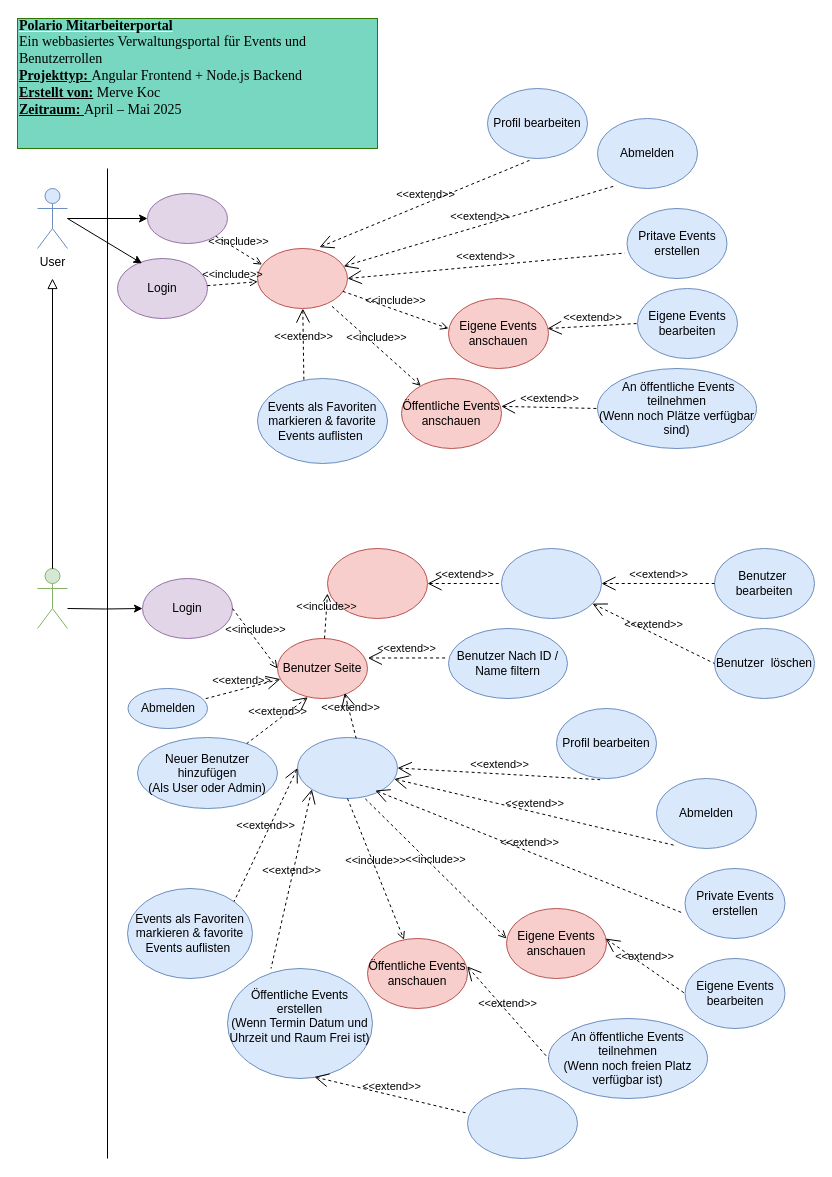
Some shapes in this 832 by 1177 pixel diagram are drawn without their labels. The shapes that lost their labels are listed below. From the top down, each one's box as (x1, y1, x2, y2) in pixels, then its label:
(146, 192, 228, 244): Register
(256, 248, 348, 308): Dashboard
(36, 568, 68, 628): Admin
(326, 548, 428, 618): Benutzer Liste anschauen
(500, 548, 602, 618): Benutzerdetails anschauen
(296, 736, 398, 798): Zum Dashboard
(466, 1088, 578, 1158): Öffentliche Events bearbeiten (eigene)
